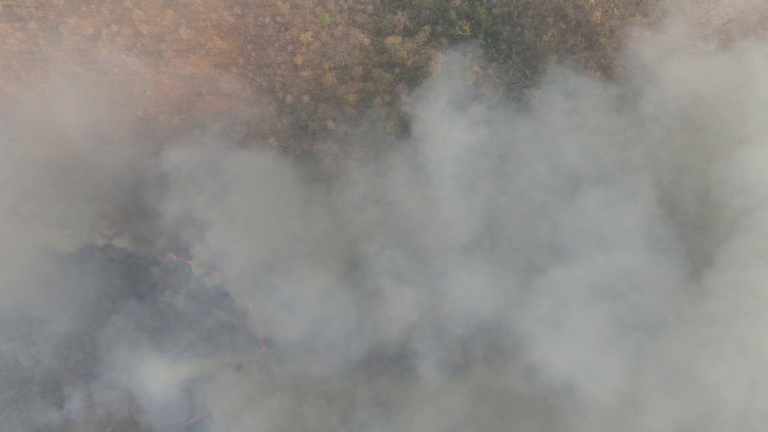fire: (162, 252, 236, 285), (154, 397, 217, 430), (238, 312, 268, 364)
smoke: (153, 66, 768, 432)
